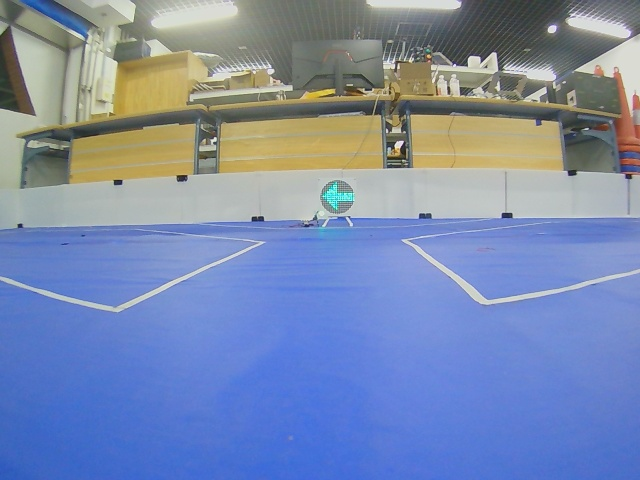left_green: (320, 180, 355, 214)
